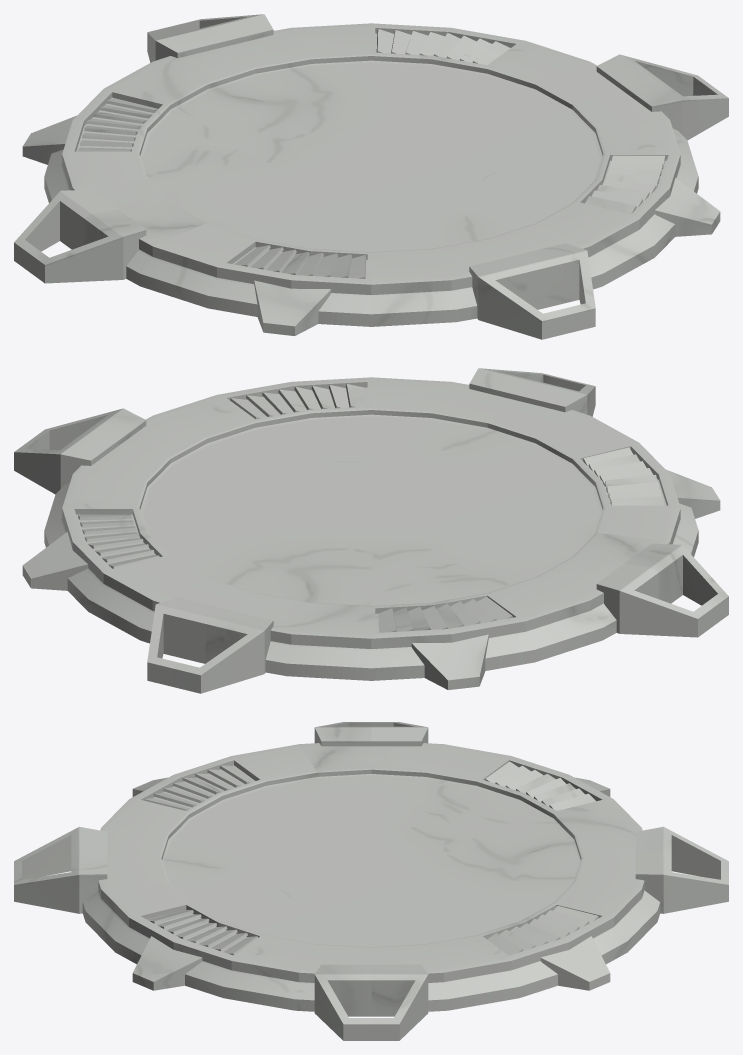
The model's file is SM_BouncePad.fbx.
3 renders of one model, top to bottom at view 1: azimuth 30°, elevation 25°; view 2: azimuth 150°, elevation 25°; view 3: azimuth 270°, elevation 25°, orthographic. The views are drawn at different scales.
Visible parts, largest first — view 1: SM_Bounce_Pad; view 2: SM_Bounce_Pad; view 3: SM_Bounce_Pad.
Boxes of the visible parts, x1=… form: SM_Bounce_Pad: x1=14, y1=14, x2=728, y2=339; SM_Bounce_Pad: x1=14, y1=368, x2=728, y2=693; SM_Bounce_Pad: x1=14, y1=722, x2=728, y2=1040.
Size of the model in its own units: 4.83 by 0.2913 by 4.83.
